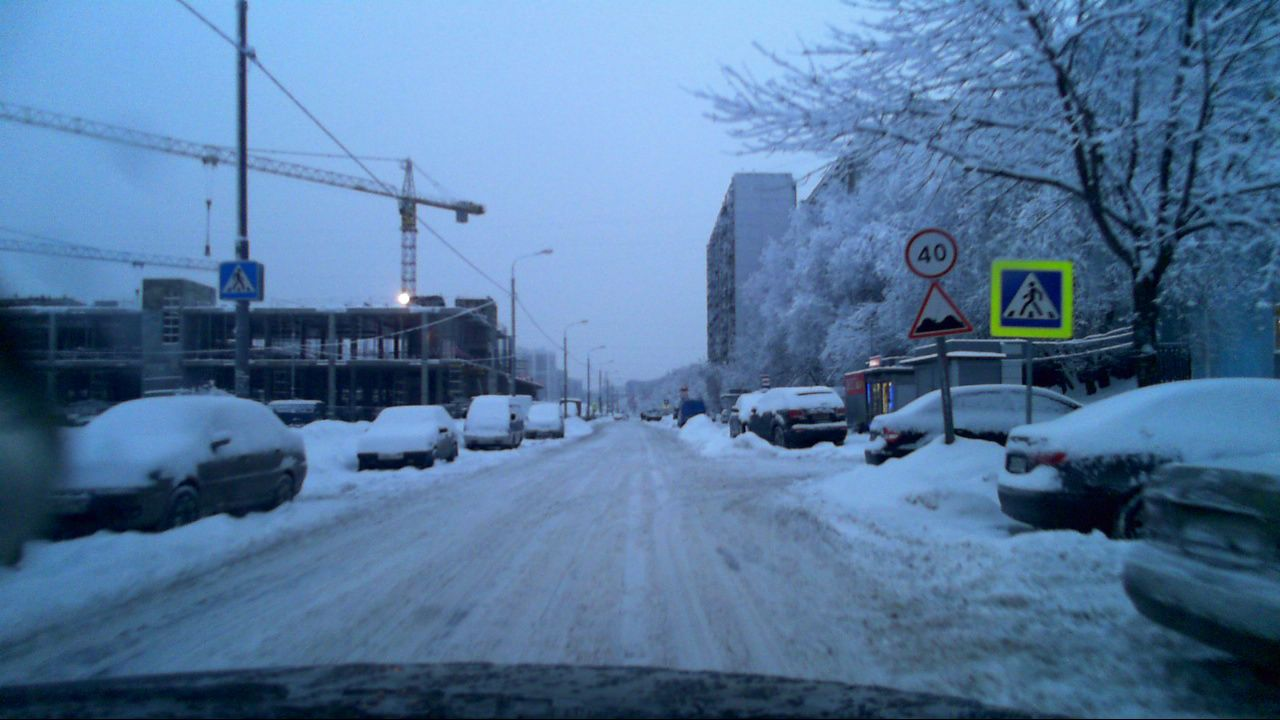speed_warning_40: (907, 229, 957, 278)
